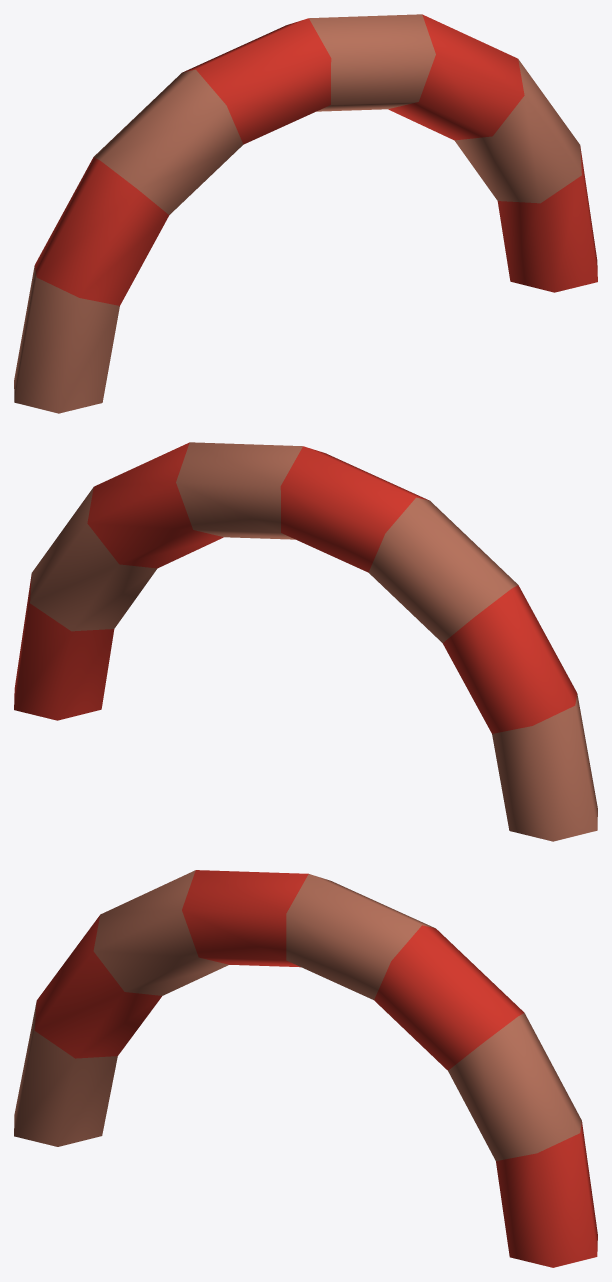
File: SM_Bouee.fbx
3 views of the same model, one above another, from view 1: azimuth 30°, elevation 25°; view 2: azimuth 150°, elevation 25°; view 3: azimuth 330°, elevation 25° (orthographic).
Visible parts, largest first — view 1: Bouee; view 2: Bouee; view 3: Bouee.
Part boxes in pixels (x1,y1,x2,y2): Bouee: (14,14,597,413); Bouee: (14,442,597,841); Bouee: (14,870,597,1267).
Bounding box in the file's own units: 96.83 × 49.63 × 12.88.
